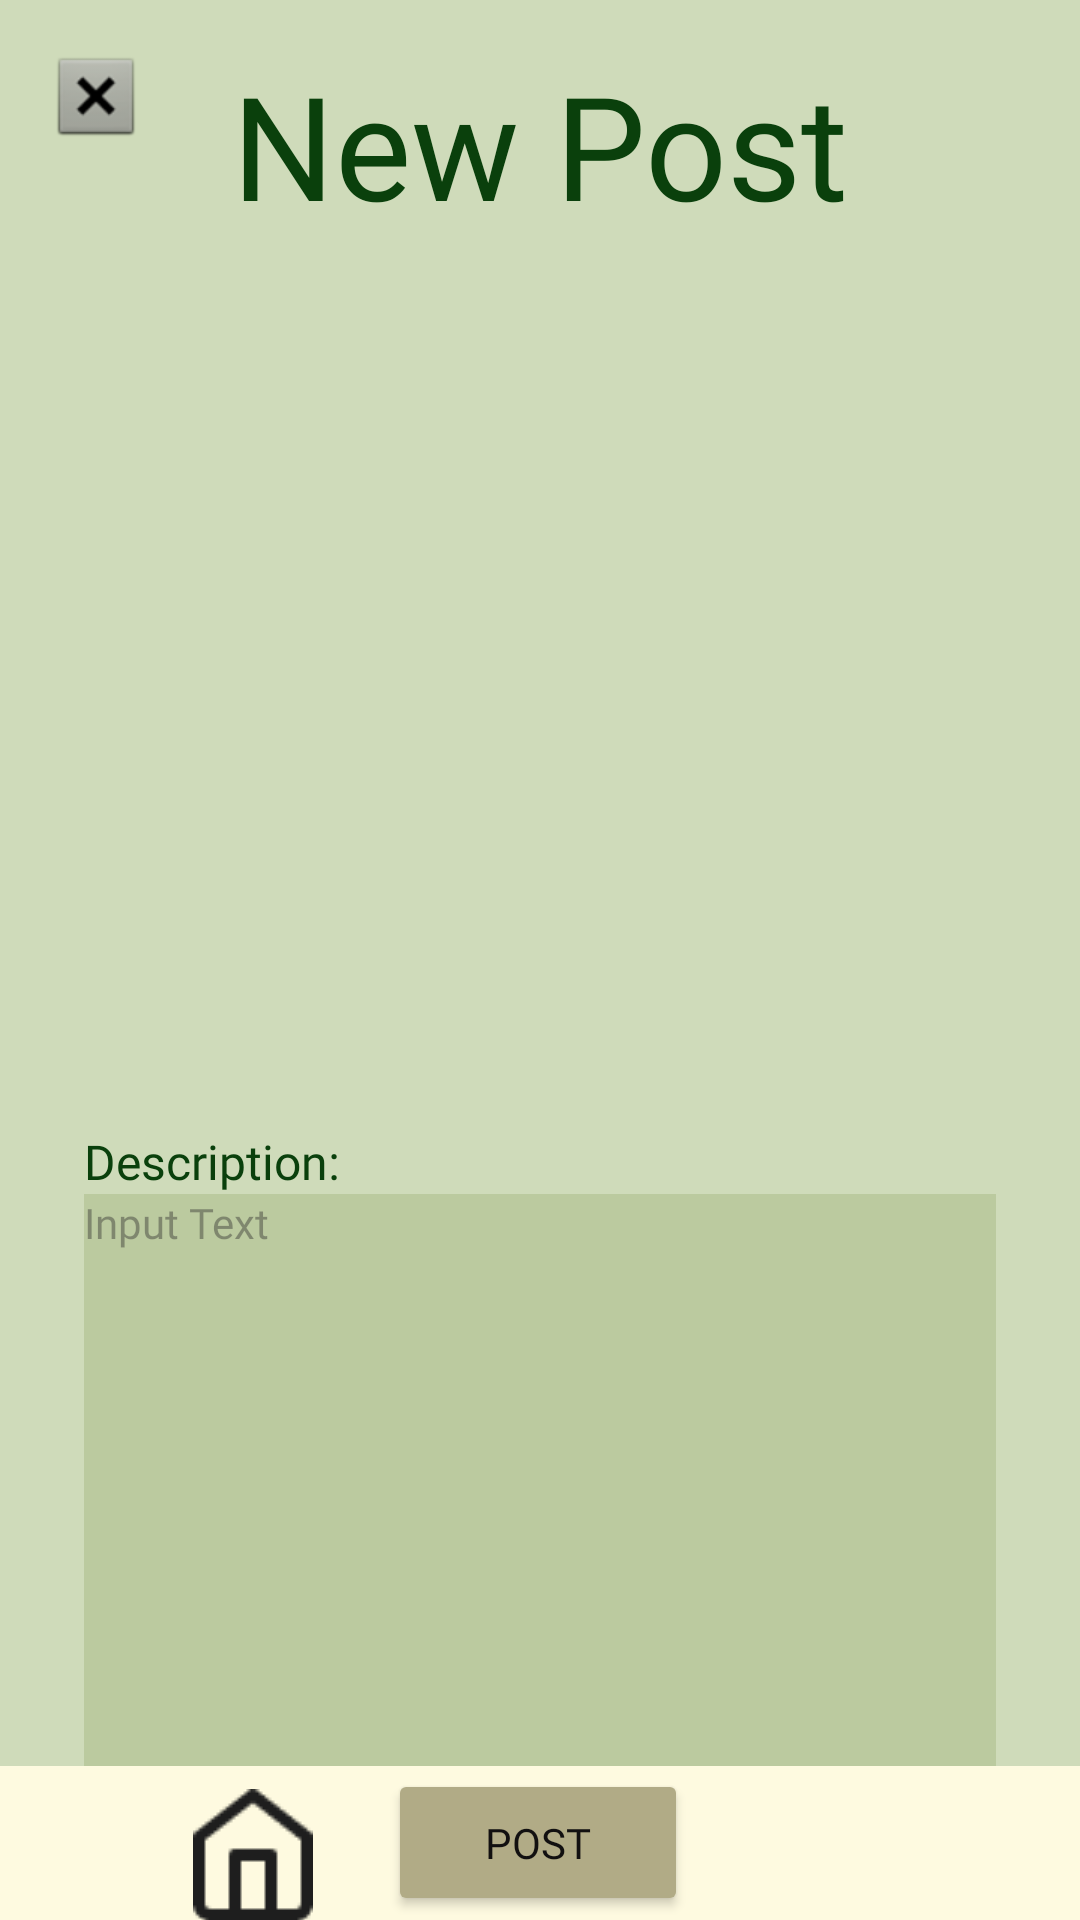

Named icons in this screenshot (1080w x 1920h) and their centers, point (x, y):
home: point (253, 1854)
